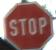Stop sign: (0, 0, 55, 49)
